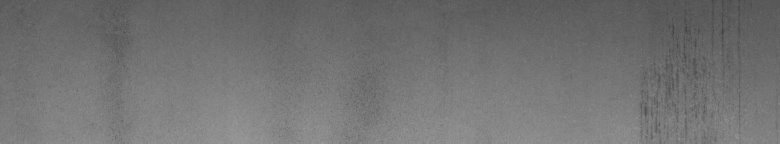ka: (636, 20, 728, 136)
